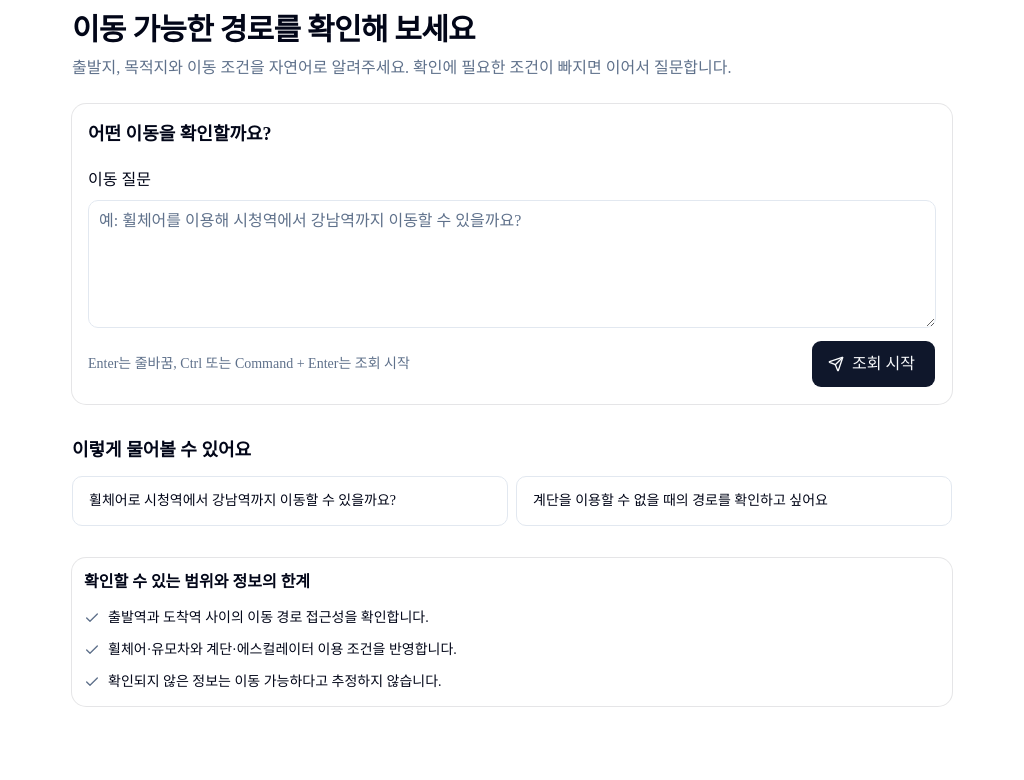
AssistantWorkspace › does not repeat a reply that only restates the clarification question
In the text box labelled "이동 질문": point(512, 264) [88, 200, 936, 328], type "시청역에서 강남역까지 갈 수 있나요?"
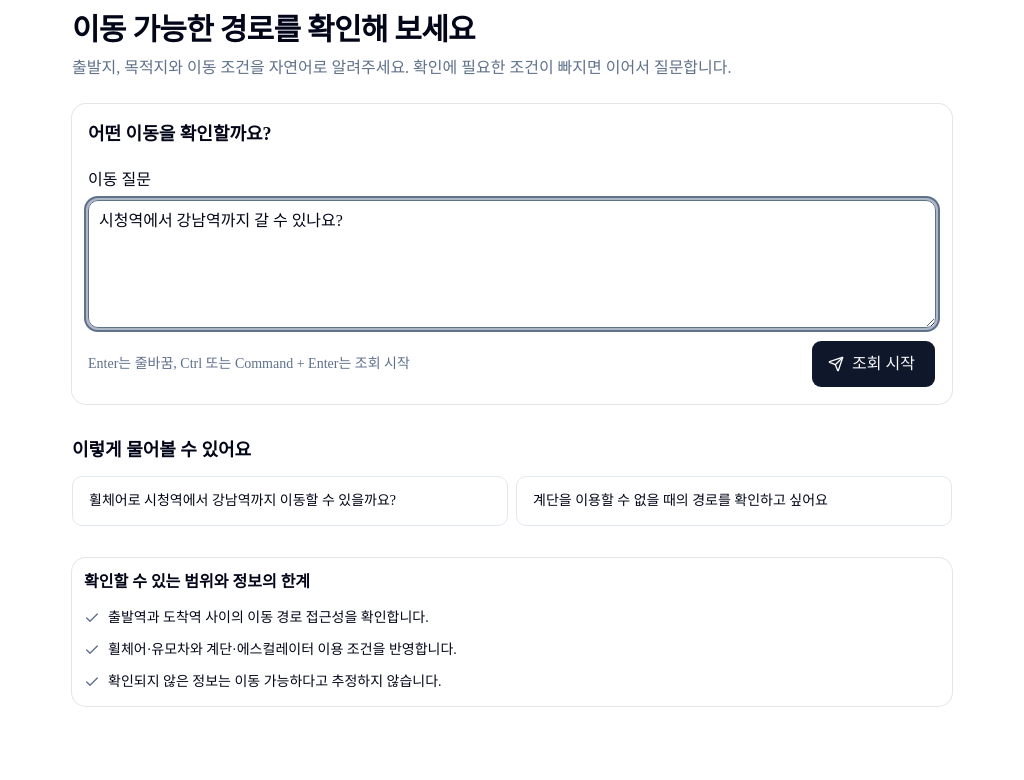
Click the button "조회 시작": point(874, 364) [811, 340, 936, 388]
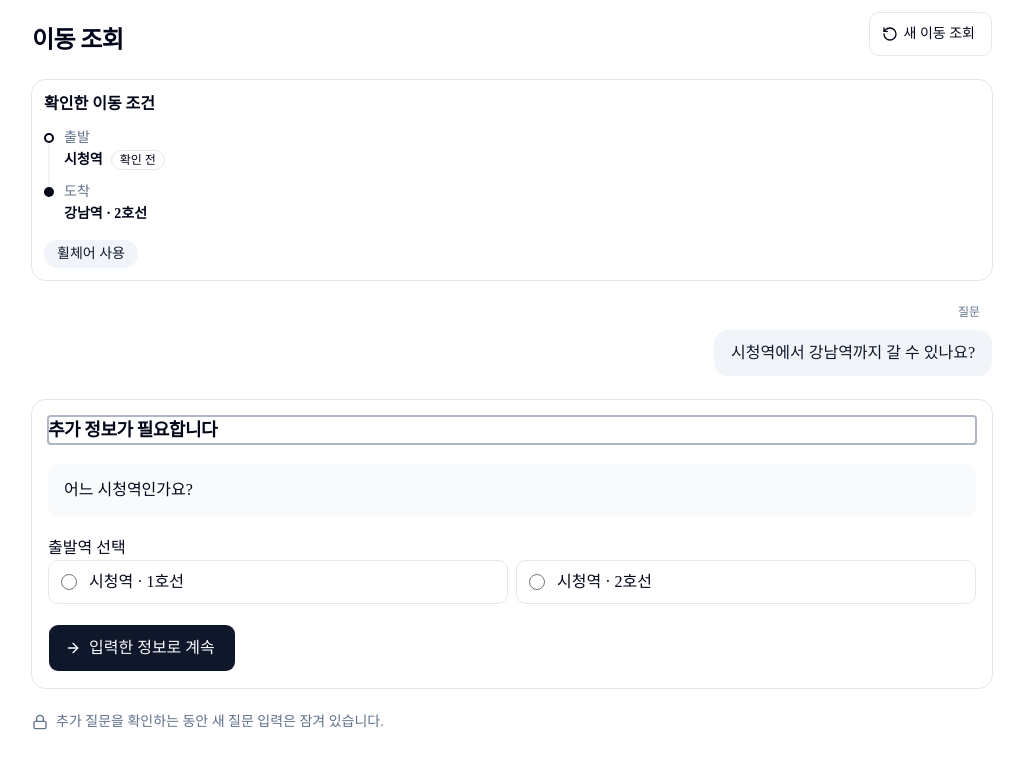
Now the heading "추가 정보가 필요합니다" is shown, box [48, 420, 217, 440]
Now the text "어느 시청역인가요?" is shown once, box [64, 481, 193, 498]
